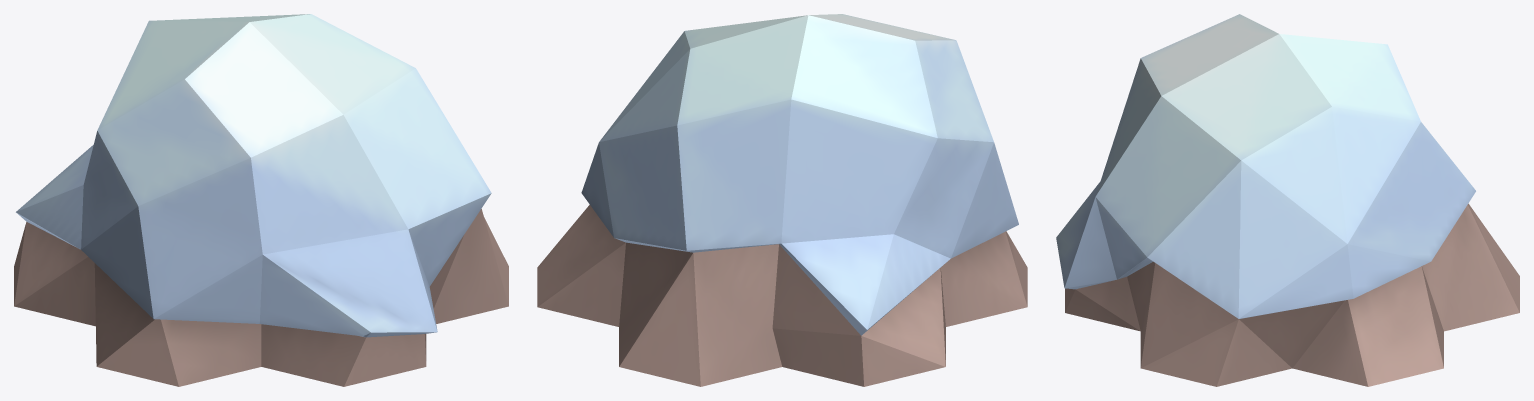
The model's file is RocherNeige_A.FBX.
3 views of the same model, side by side, from view 1: azimuth 30°, elevation 25°; view 2: azimuth 150°, elevation 25°; view 3: azimuth 270°, elevation 25° (orthographic). The views are drawn at different scales.
Parts seen in each view (by area): view 1: RocherNeige_A; view 2: RocherNeige_A; view 3: RocherNeige_A.
Part boxes in pixels (left/top/right/bottom): RocherNeige_A: left=14, top=14, right=508, bottom=386; RocherNeige_A: left=537, top=14, right=1027, bottom=386; RocherNeige_A: left=1056, top=14, right=1519, bottom=386.
Size of the model in its own units: 2.5 by 1.59 by 2.65.
